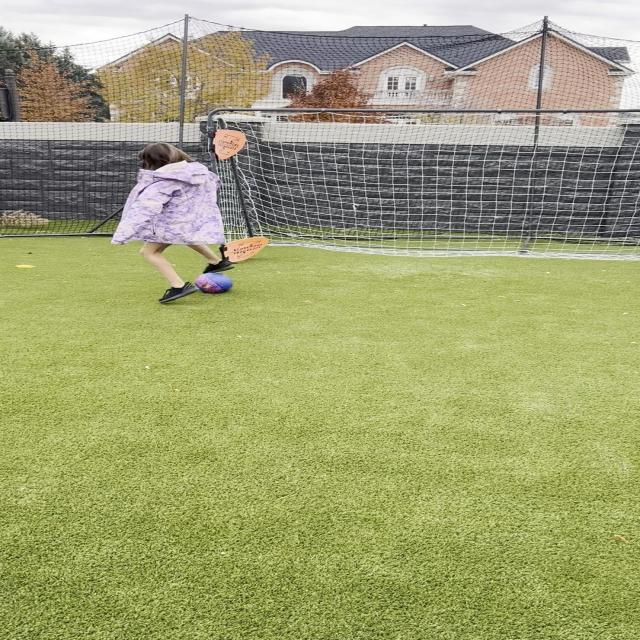Soccer Ball: (195, 272, 233, 295)
